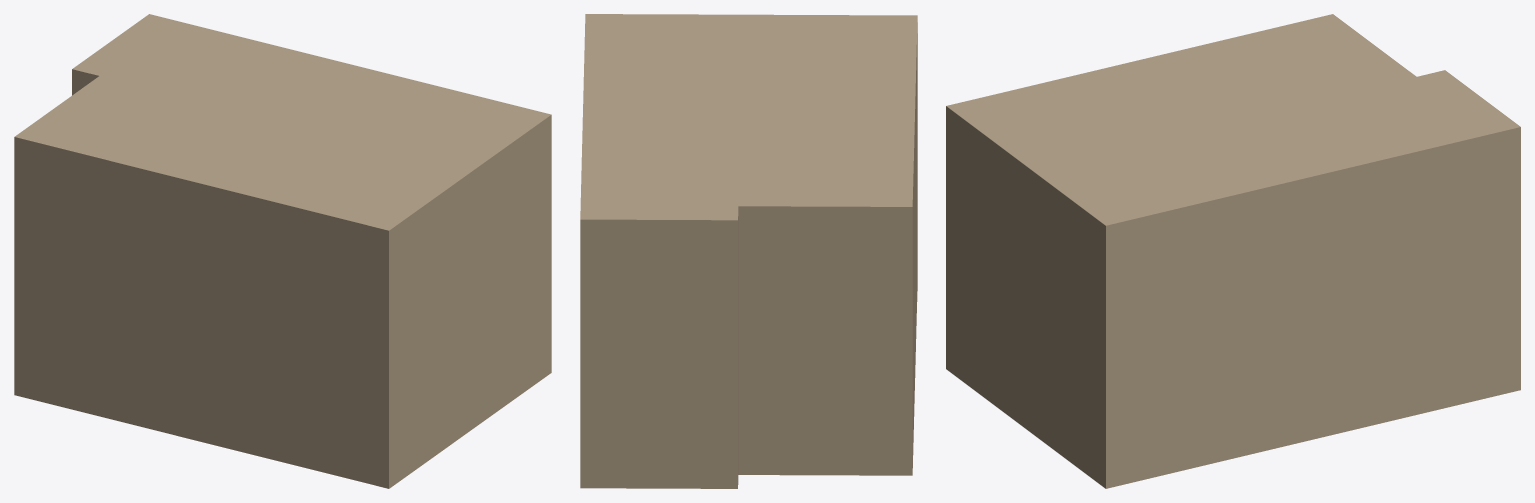
File: bld_106455984.dae
The picture shows the model from 3 angles, left to right: view 1: azimuth 30°, elevation 25°; view 2: azimuth 150°, elevation 25°; view 3: azimuth 270°, elevation 25°; orthographic projection. The views are drawn at different scales.
Visible parts, largest first — view 1: bld_106455984; view 2: bld_106455984; view 3: bld_106455984.
Boxes of the visible parts, box(x1,y1,x2,y2) form: bld_106455984: box(14, 14, 551, 488); bld_106455984: box(580, 14, 917, 488); bld_106455984: box(946, 14, 1520, 488).
Size of the model in its own units: 13.81 by 15.84 by 8.
